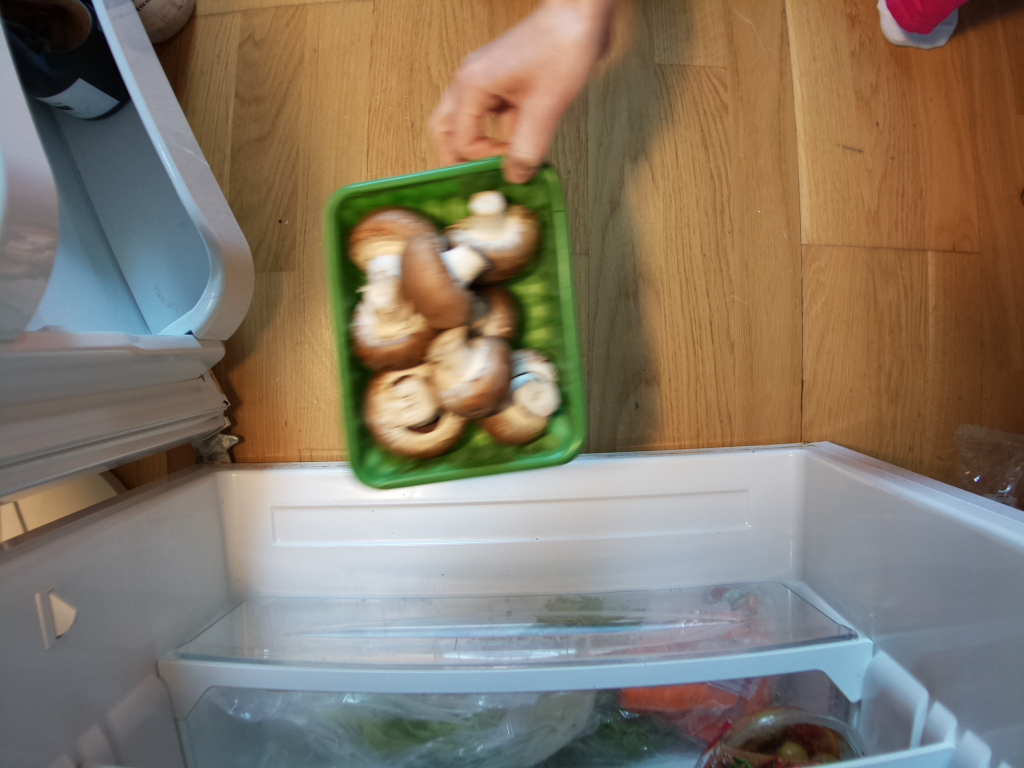mushrooms: (320, 156, 592, 493)
